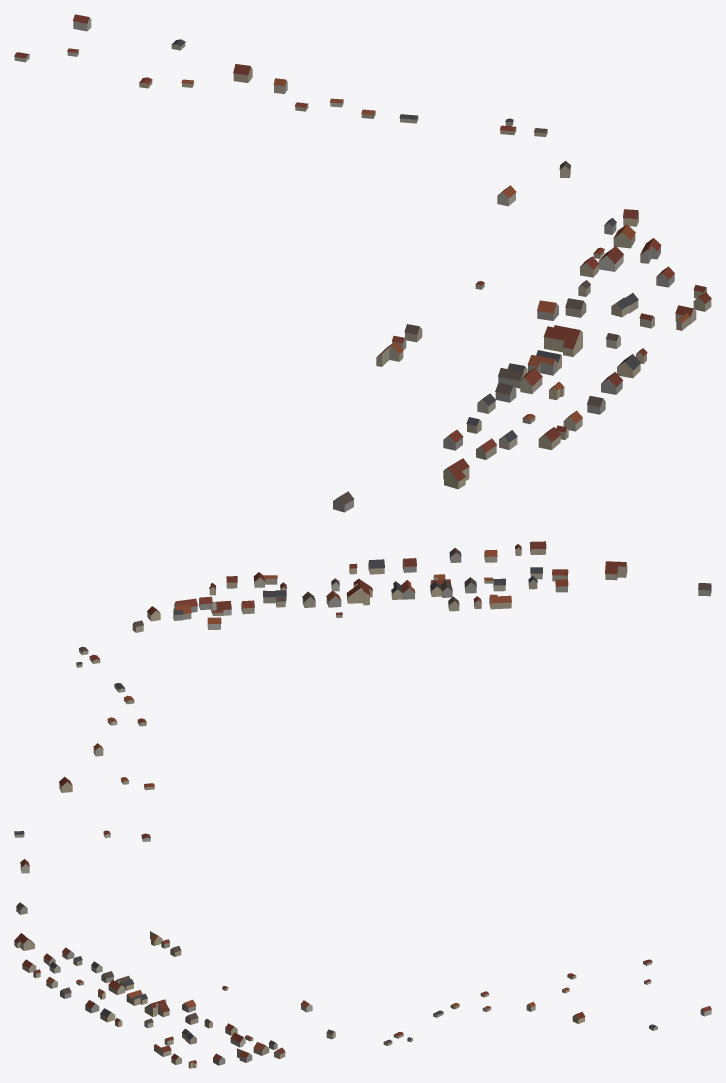
The picture shows the model from 3 angles, top to bottom: view 1: azimuth 30°, elevation 25°; view 2: azimuth 150°, elevation 25°; view 3: azimuth 270°, elevation 25°; orthographic projection. The views are drawn at different scales.
Visible parts, largest first — view 1: buildings; view 2: buildings; view 3: buildings.
Boxes of the visible parts, left/top/right/bottom form: buildings: left=14, top=14, right=711, bottom=512; buildings: left=14, top=541, right=711, bottom=873; buildings: left=14, top=902, right=711, bottom=1068.
Bounding box in the file's own units: 402 × 47.08 × 782.
